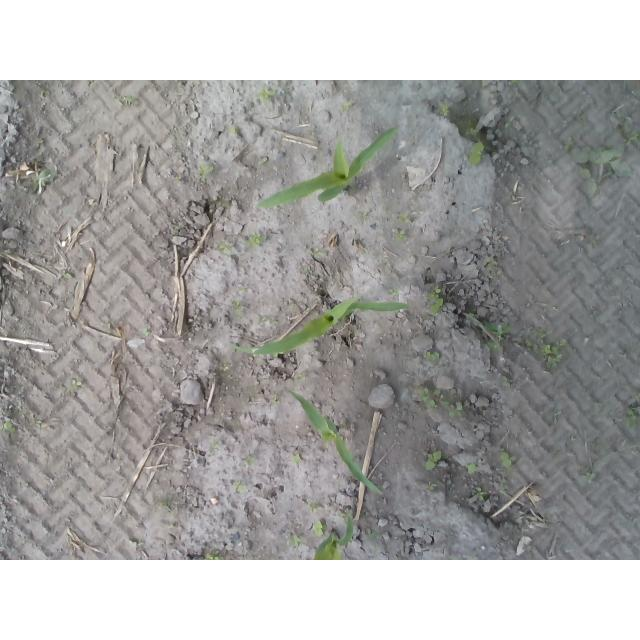Maize: (257, 123, 405, 210), (233, 291, 416, 358), (281, 384, 384, 501), (309, 512, 357, 560)
Weeds: (559, 136, 637, 195), (610, 110, 640, 145), (484, 321, 514, 353), (537, 339, 567, 369), (414, 384, 444, 407), (422, 445, 447, 471), (423, 286, 445, 314), (620, 406, 640, 432), (446, 401, 467, 421), (498, 448, 519, 468), (253, 313, 280, 328), (32, 168, 53, 186), (469, 143, 486, 165), (1, 416, 19, 433), (198, 160, 215, 178), (257, 87, 277, 102), (285, 533, 303, 549), (312, 518, 326, 538), (425, 346, 442, 362), (231, 299, 249, 314), (248, 232, 264, 248), (472, 488, 489, 502), (418, 480, 439, 491), (217, 240, 235, 252), (393, 227, 407, 242), (437, 102, 451, 117), (231, 479, 247, 491), (583, 468, 599, 480), (303, 503, 321, 513), (205, 552, 224, 561), (466, 460, 478, 474), (288, 450, 300, 462), (70, 378, 83, 389), (124, 94, 137, 104), (244, 456, 257, 465), (388, 288, 400, 296)
